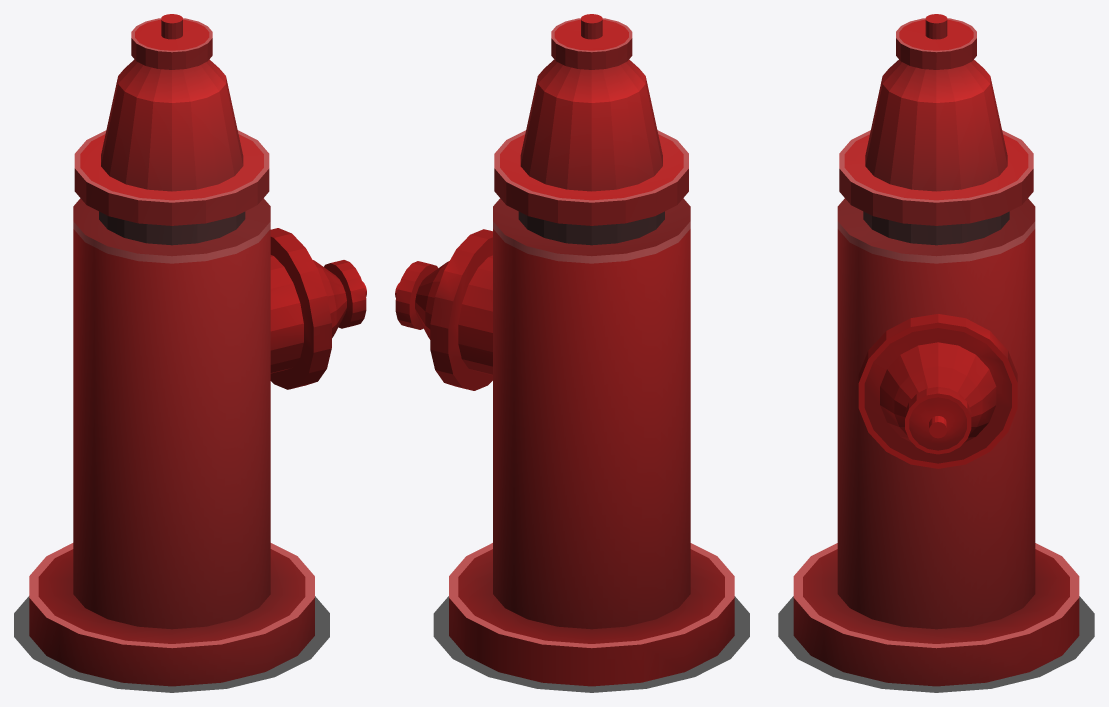
File: Hidrante.FBX
3 renders of one model, left to right at view 1: azimuth 30°, elevation 25°; view 2: azimuth 150°, elevation 25°; view 3: azimuth 270°, elevation 25°, orthographic.
Visible parts, largest first — view 1: Cylinder001, Object001; view 2: Cylinder001, Object001; view 3: Cylinder001, Object001.
Boxes of the visible parts, left/top/right/bottom form: Cylinder001: left=14, top=14, right=329, bottom=692; Object001: left=270, top=228, right=366, bottom=389; Cylinder001: left=433, top=14, right=749, bottom=692; Object001: left=395, top=229, right=492, bottom=390; Cylinder001: left=778, top=14, right=1094, bottom=692; Object001: left=858, top=314, right=1017, bottom=468.
Bounding box in the file's own units: 57.07 × 100 × 47.3.
